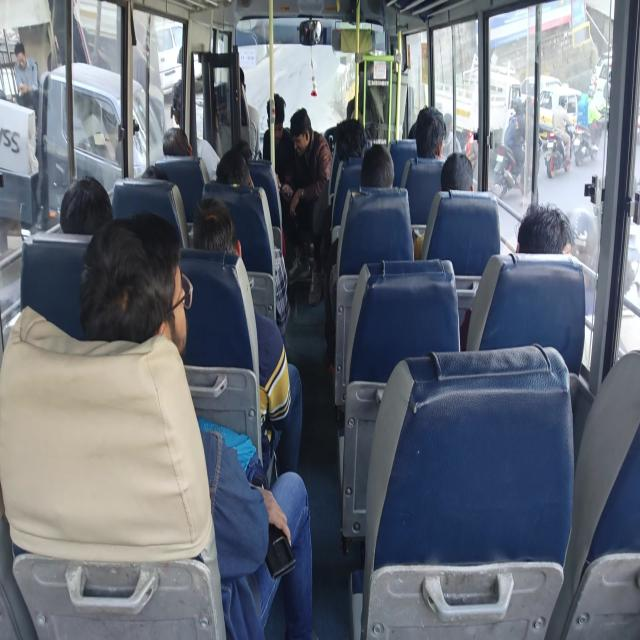person: (116, 255, 194, 372), (188, 211, 250, 286), (518, 200, 576, 271), (58, 183, 109, 257), (209, 146, 257, 212), (164, 72, 207, 143), (132, 136, 166, 218), (363, 153, 407, 195), (222, 59, 254, 116), (339, 127, 371, 177), (436, 166, 474, 208), (417, 119, 446, 171), (160, 122, 194, 164), (296, 100, 316, 154), (362, 43, 380, 100), (265, 97, 285, 143)
